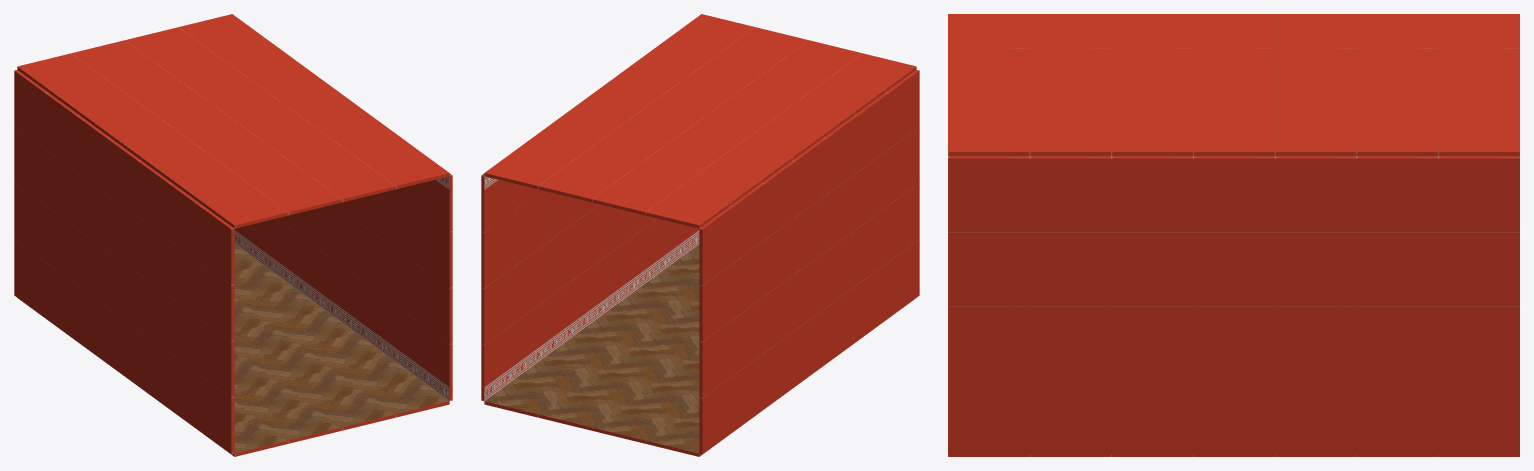
File: CorredorMenor.fbx
3 renders of one model, left to right at view 1: azimuth 30°, elevation 25°; view 2: azimuth 150°, elevation 25°; view 3: azimuth 270°, elevation 25°, orthographic. The views are drawn at different scales.
Parts seen in each view (by area): view 1: CorredorMenor; view 2: CorredorMenor; view 3: CorredorMenor.
Boxes of the visible parts, box(x1,y1,x2,y2) form: CorredorMenor: box(14, 14, 452, 456); CorredorMenor: box(481, 14, 919, 456); CorredorMenor: box(948, 14, 1519, 456).
Bounding box in the file's own units: 823 × 823 × 1400.
